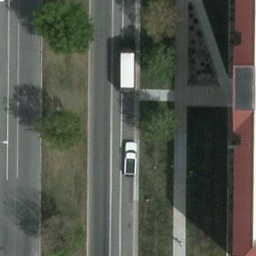car: (120, 141, 139, 176), (1, 1, 14, 3)
